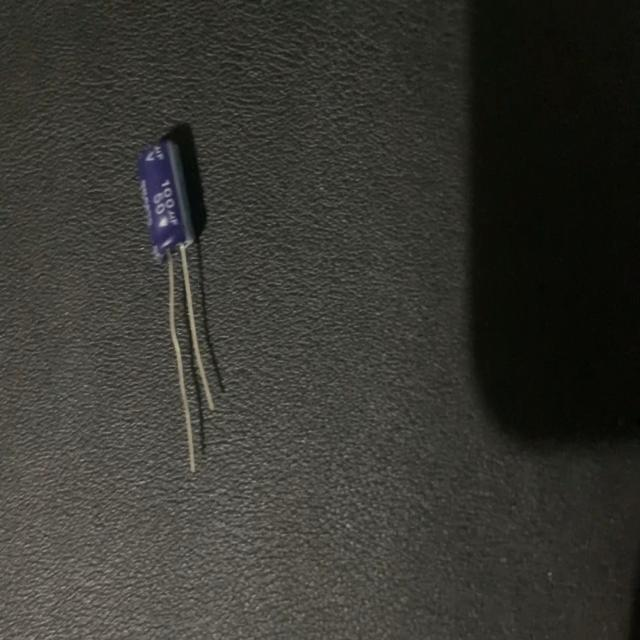capacitor: (132, 128, 224, 483)
